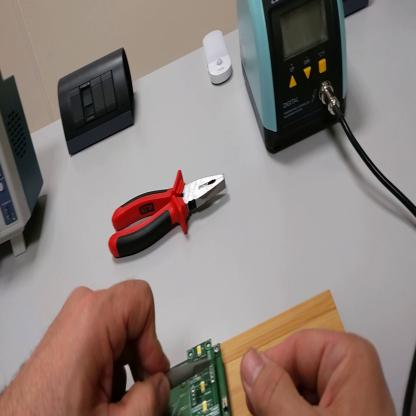hand: (1, 278, 172, 416), (242, 327, 397, 416)
low voltage board: (167, 340, 234, 416)
oscilloscope: (2, 64, 47, 255)
oscilloscope probe tip: (168, 356, 214, 389)
pliers: (109, 164, 228, 262)
socket: (345, 1, 370, 21)
welder station: (236, 2, 348, 159)
working area: (223, 281, 349, 413)
